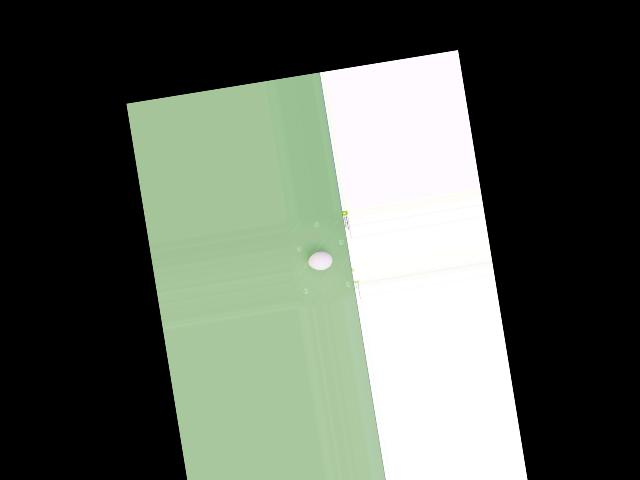egg: (307, 249, 333, 271)
